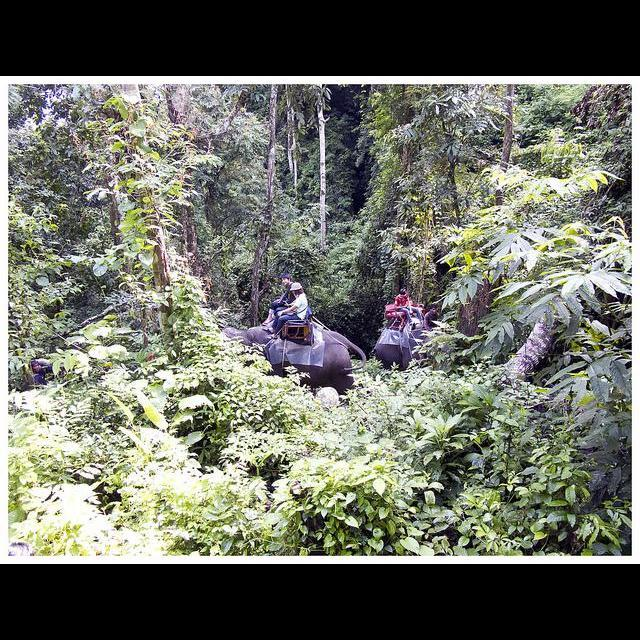elephant: (223, 326, 365, 404), (371, 324, 454, 372)
person: (261, 282, 309, 338), (261, 273, 295, 327), (394, 286, 426, 326)
